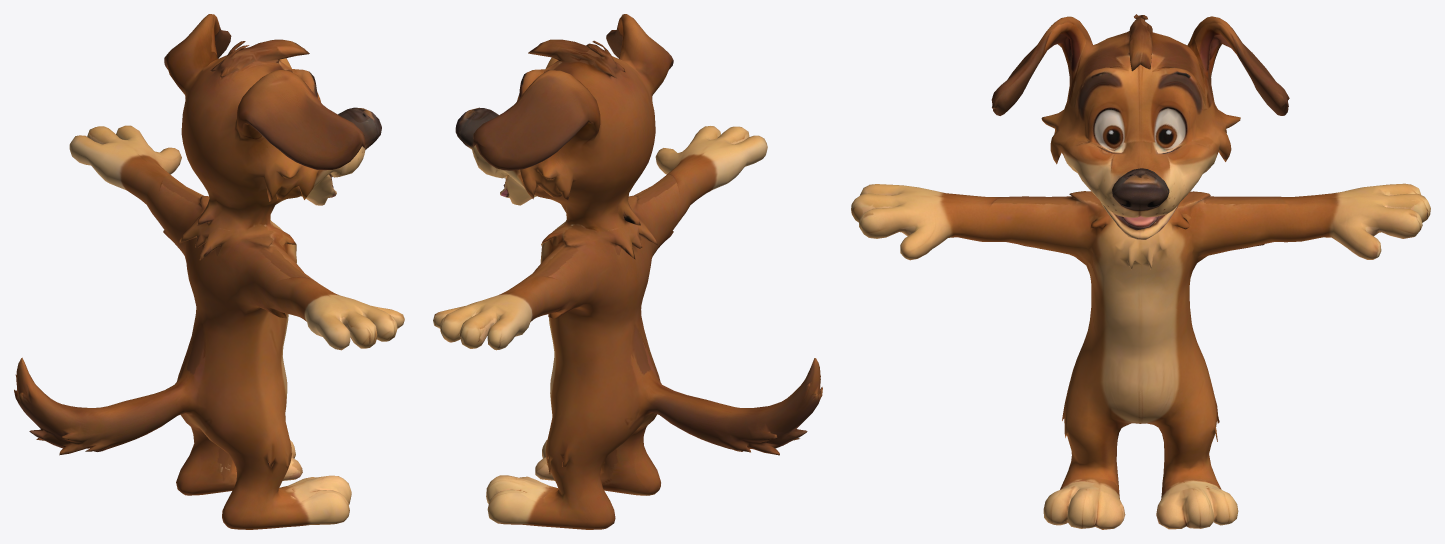
The model's file is pes_ulicni.glb.
3 views of the same model, side by side, from view 1: azimuth 30°, elevation 25°; view 2: azimuth 150°, elevation 25°; view 3: azimuth 270°, elevation 25° (orthographic). The views are drawn at different scales.
Bounding box in the file's own units: 0.4485 × 0.55 × 0.6004.
1 material, 1 textured.
